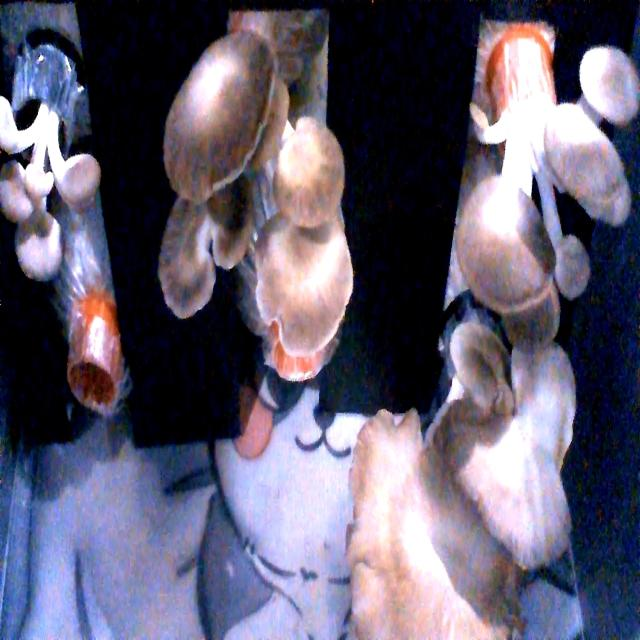big: (148, 42, 369, 390), (338, 378, 588, 637), (459, 61, 640, 337)
nfound: (62, 348, 128, 431)
small: (0, 101, 105, 289)
